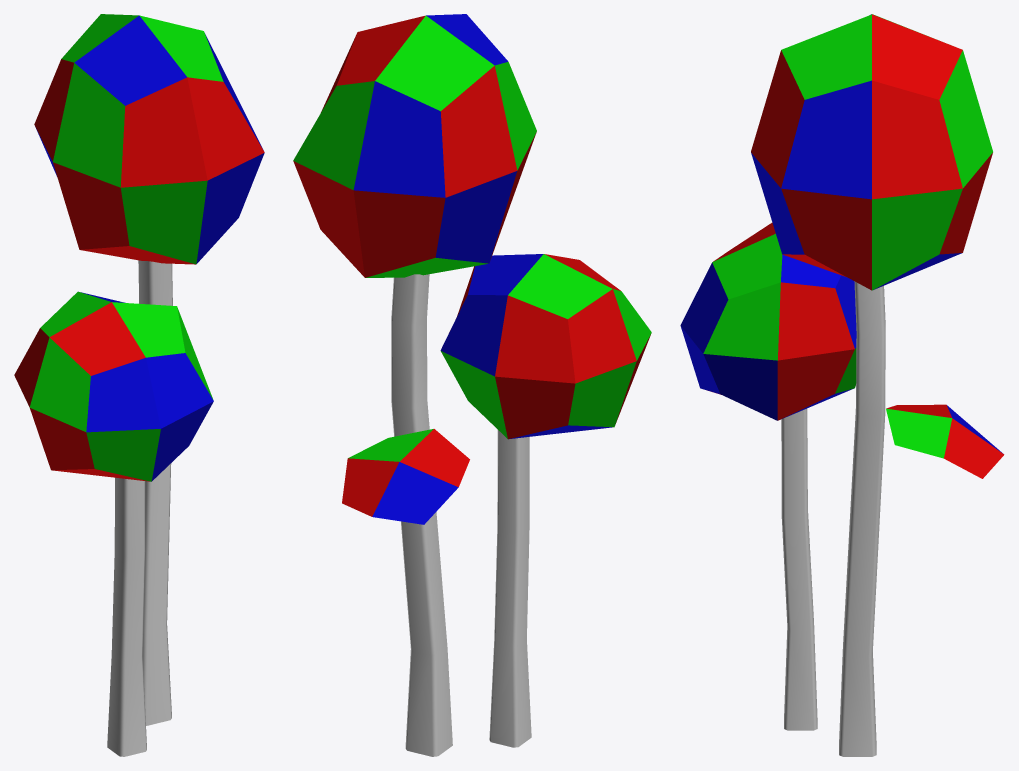
File: Tree_E_02.fbx
The picture shows the model from 3 angles, left to right: view 1: azimuth 30°, elevation 25°; view 2: azimuth 150°, elevation 25°; view 3: azimuth 270°, elevation 25°; orthographic projection. The views are drawn at different scales.
Parts seen in each view (by area): view 1: Tree_E_02_Leaves, Tree_E_02_Trunk; view 2: Tree_E_02_Leaves, Tree_E_02_Trunk; view 3: Tree_E_02_Leaves, Tree_E_02_Trunk.
Part boxes in pixels (<box>): Tree_E_02_Leaves: <box>14,14,264,481</box>; Tree_E_02_Trunk: <box>107,260,172,756</box>; Tree_E_02_Leaves: <box>293,14,651,524</box>; Tree_E_02_Trunk: <box>391,274,531,756</box>; Tree_E_02_Leaves: <box>680,14,1004,478</box>; Tree_E_02_Trunk: <box>781,281,885,756</box>.
Size of the model in its own units: 0.9941 by 2.57 by 1.03.
